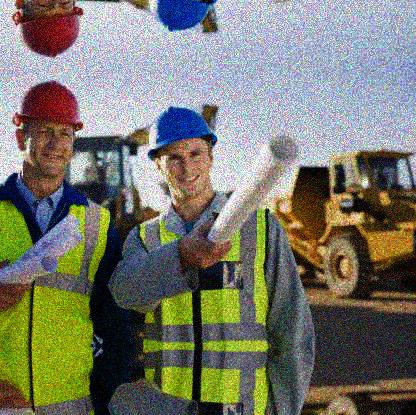helmet: (12, 80, 82, 180), (149, 107, 217, 199), (11, 1, 83, 59)
